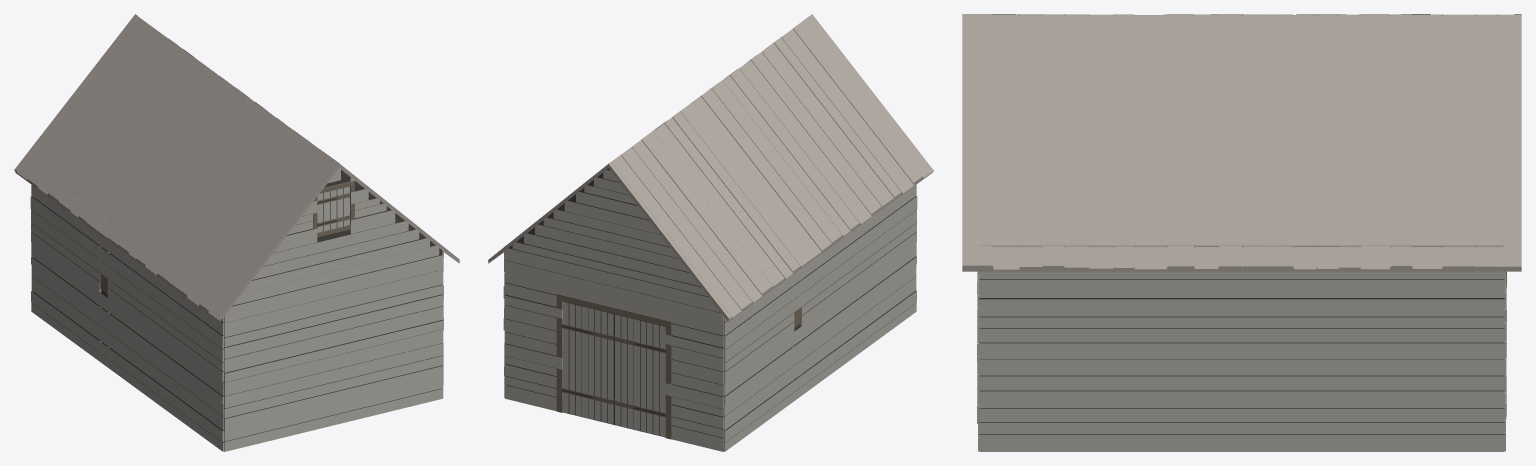
Rendered from recon_1835_blk_washington_clinton_a2_15__inferred_1835.glb.
3 renders of one model, left to right at view 1: azimuth 30°, elevation 25°; view 2: azimuth 150°, elevation 25°; view 3: azimuth 270°, elevation 25°, orthographic. The views are drawn at different scales.
Parts seen in each view (by area): view 1: recon_1835_blk_washington_clinton_a2_15__inferred_1835; view 2: recon_1835_blk_washington_clinton_a2_15__inferred_1835; view 3: recon_1835_blk_washington_clinton_a2_15__inferred_1835.
Part boxes in pixels (x1,y1,x2,y2): recon_1835_blk_washington_clinton_a2_15__inferred_1835: (14, 14, 459, 451); recon_1835_blk_washington_clinton_a2_15__inferred_1835: (488, 14, 933, 451); recon_1835_blk_washington_clinton_a2_15__inferred_1835: (962, 14, 1521, 451).
Bounding box in the file's own units: 6.84 × 7.15 × 9.94.
